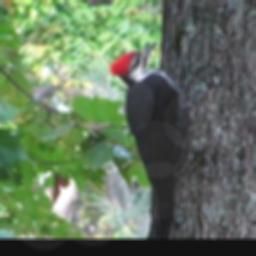Woodpecker: (106, 40, 206, 238)
